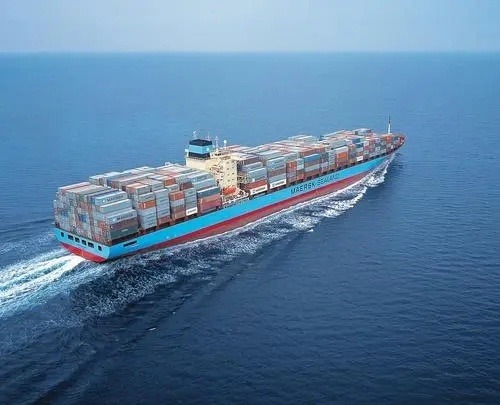Cargoship: (52, 111, 404, 265)
